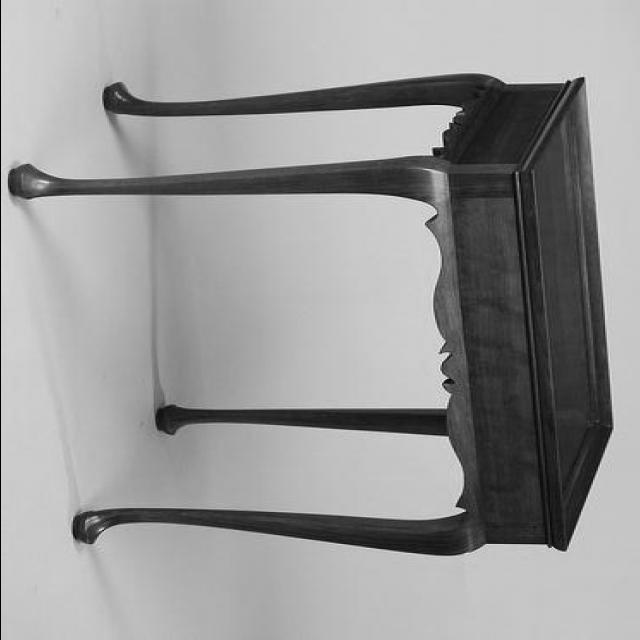table: (9, 72, 612, 554)
